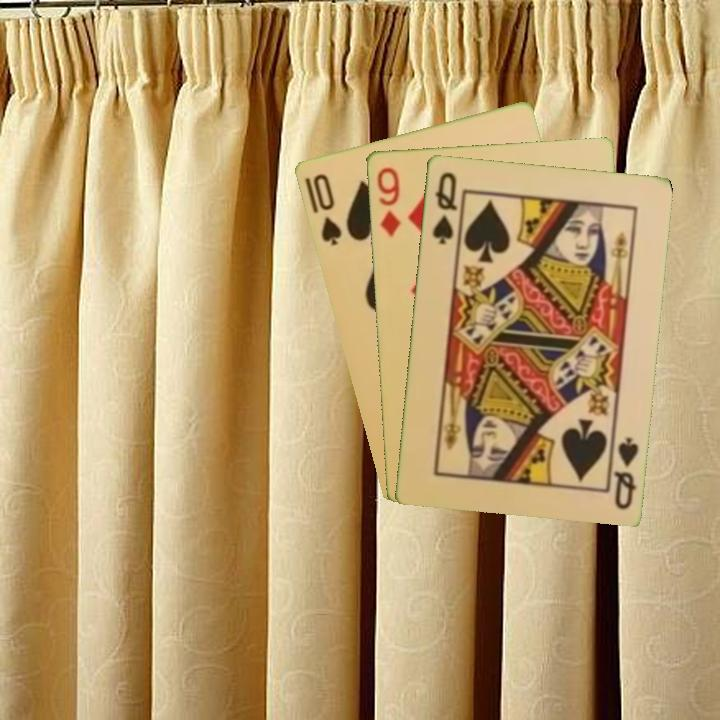10s: (309, 169, 344, 249)
9d: (373, 163, 403, 240)
Qs: (605, 430, 641, 512), (428, 168, 460, 247)
